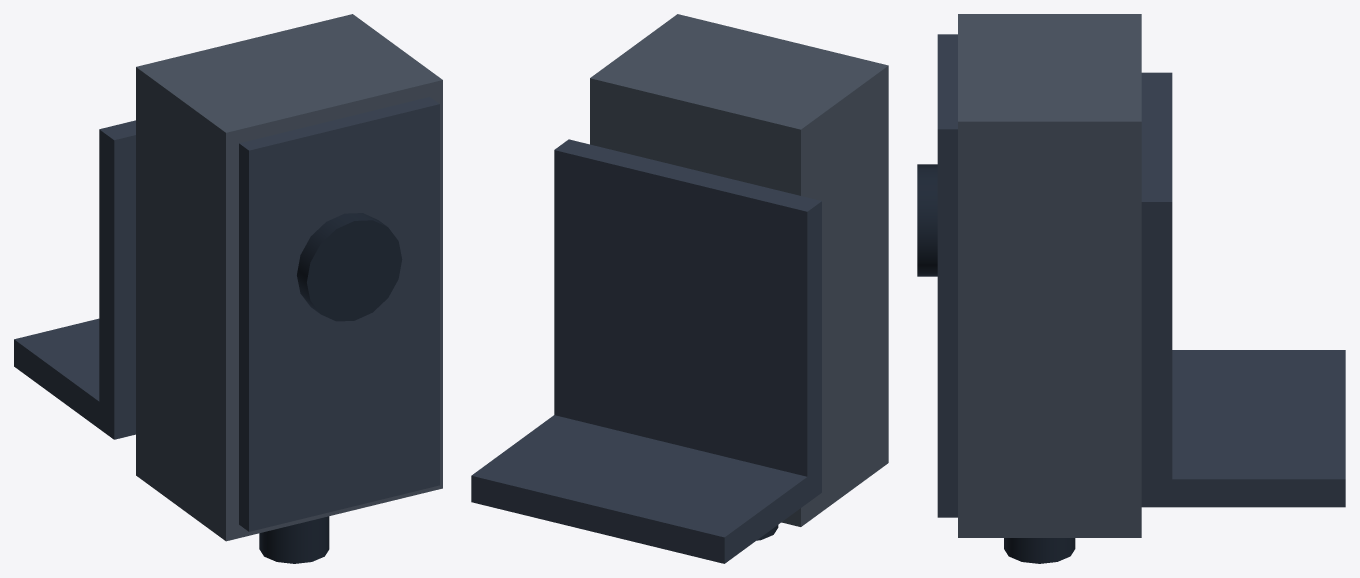
File: photo_eye.glb
3 views of the same model, side by side, from view 1: azimuth 30°, elevation 25°; view 2: azimuth 150°, elevation 25°; view 3: azimuth 270°, elevation 25° (orthographic). The views are drawn at different scales.
Parts seen in each view (by area): view 1: head, bracket; view 2: bracket, head; view 3: head, bracket.
Part boxes in pixels (bbox=[...]): head: bbox=[136, 14, 442, 563]; bracket: bbox=[14, 120, 135, 439]; bracket: bbox=[471, 139, 821, 563]; head: bbox=[590, 14, 888, 540]; head: bbox=[917, 14, 1141, 563]; bracket: bbox=[1141, 72, 1345, 507].
Size of the model in its own units: 0.06 by 0.104 by 0.084.
